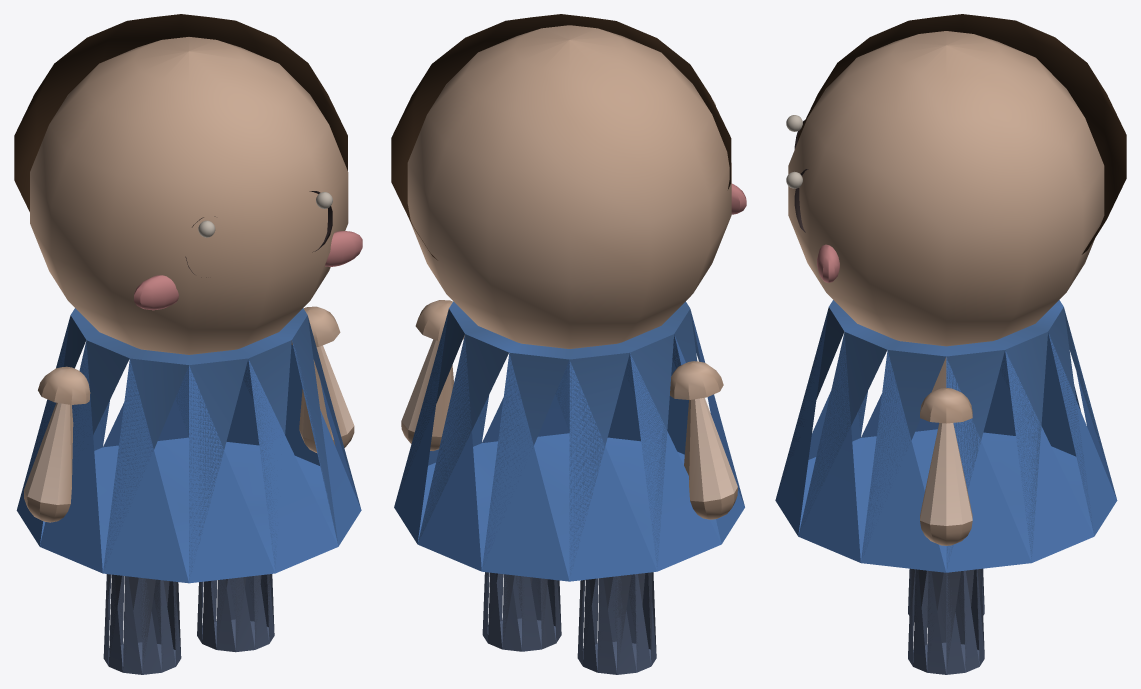
The picture shows the model from 3 angles, left to right: view 1: azimuth 30°, elevation 25°; view 2: azimuth 150°, elevation 25°; view 3: azimuth 270°, elevation 25°; orthographic projection. The views are drawn at different scales.
Parts seen in each view (by area): view 1: pet_p1934d6de; view 2: pet_p1934d6de; view 3: pet_p1934d6de.
Part boxes in pixels (x1=…): pet_p1934d6de: x1=14, y1=14, x2=362, y2=674; pet_p1934d6de: x1=391, y1=14, x2=746, y2=674; pet_p1934d6de: x1=775, y1=14, x2=1126, y2=674.
Bounding box in the file's own units: 0.3464 × 0.625 × 0.3287.
